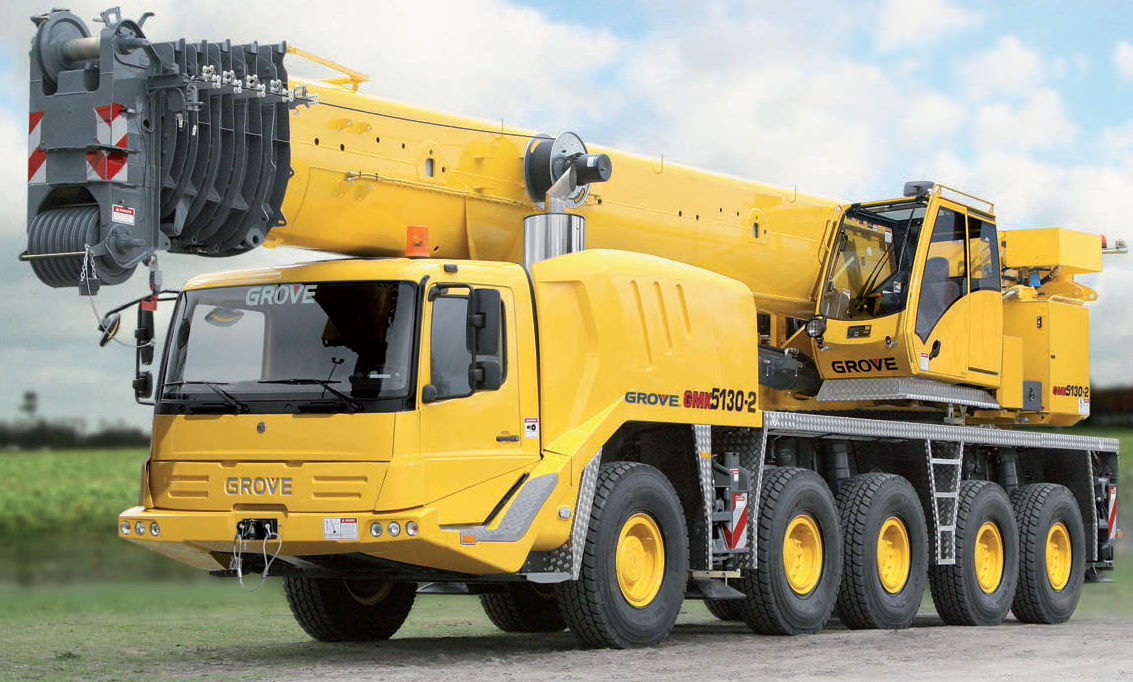crane: (18, 5, 1119, 650)
